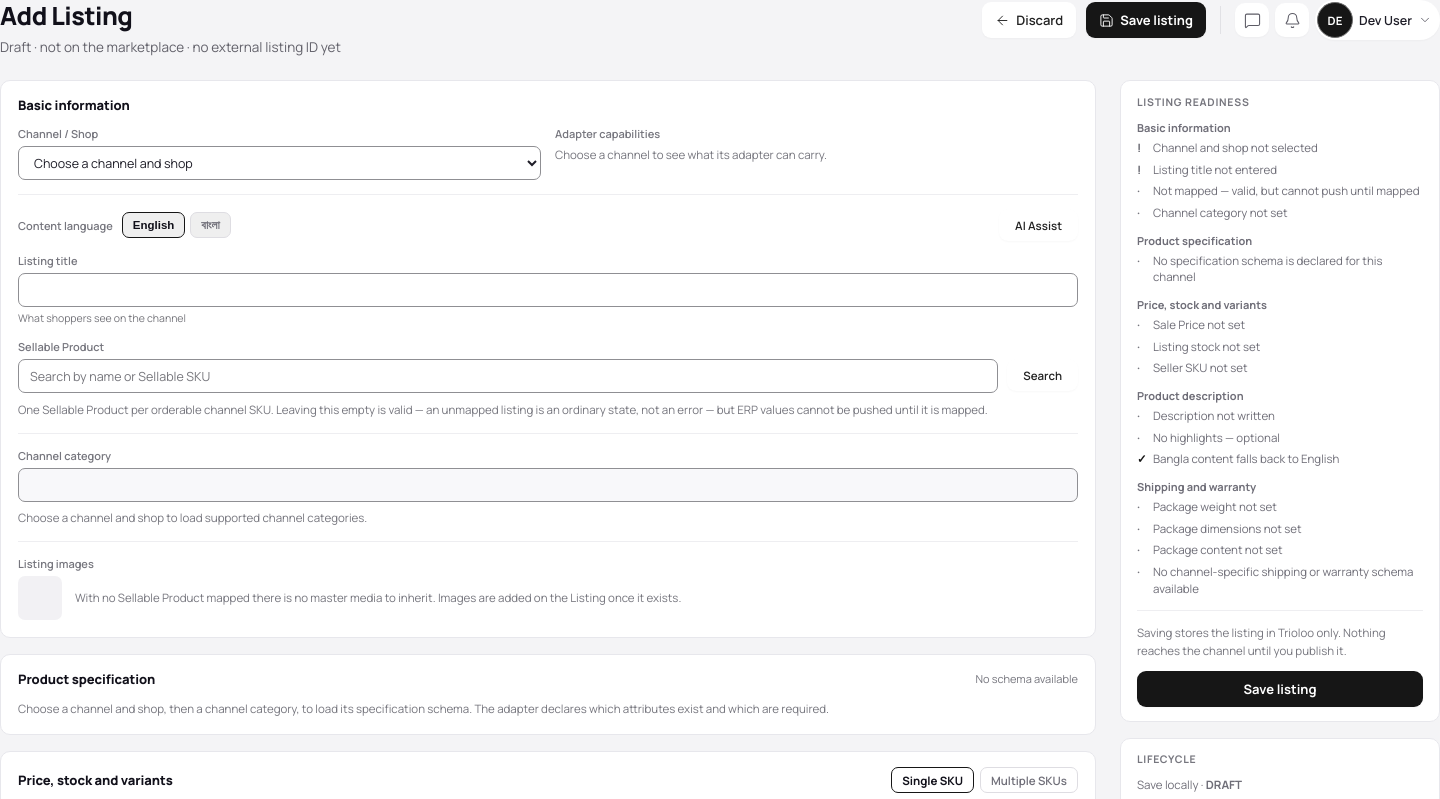
Scenario: AI Assist — availability › opens from the authoring header without being the page primary
Step 1. Click the button with test id "ai-assist-open" → (1039, 225), box [999, 209, 1078, 241]
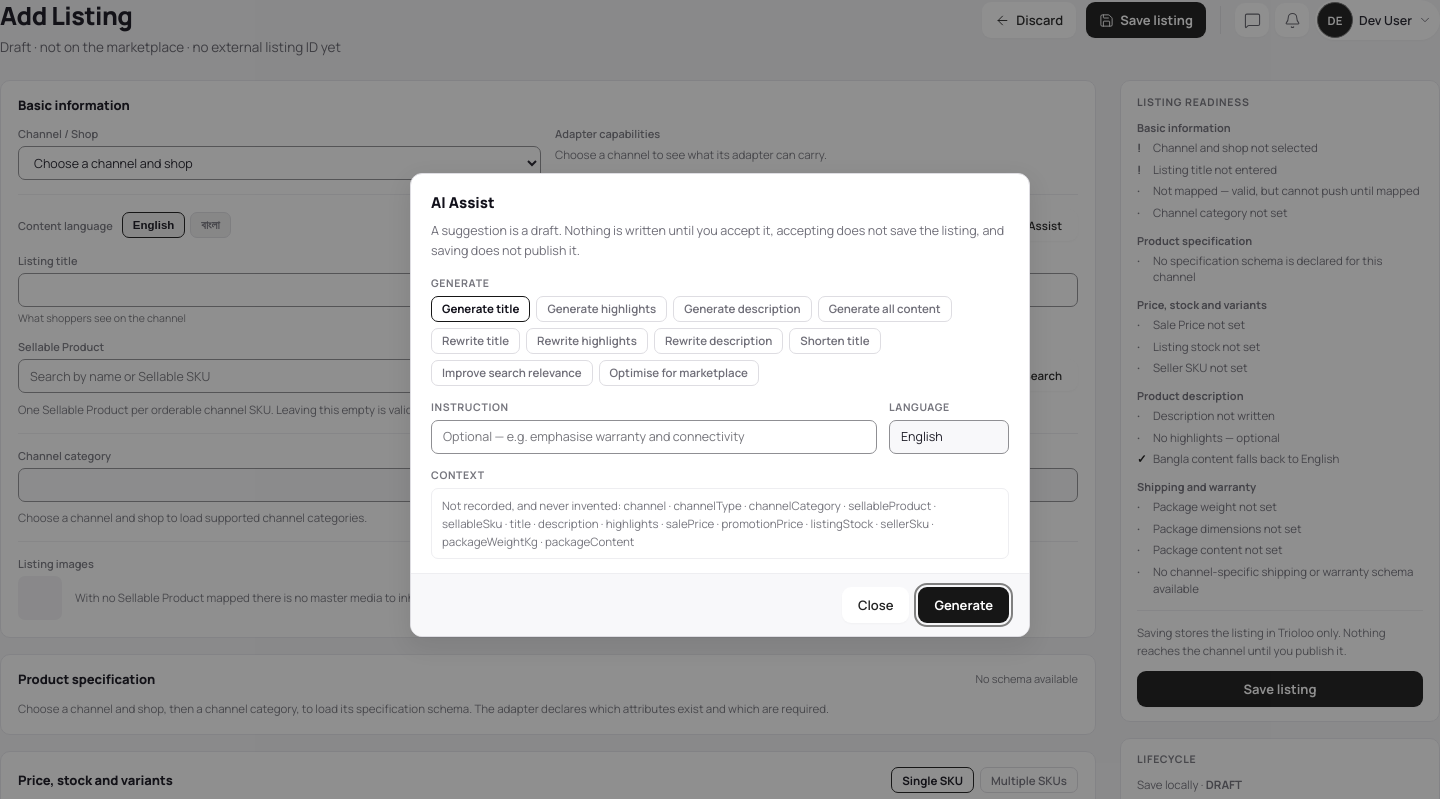
Expected: the element with test id "page-header-actions" shows "Save listing", [1086, 2, 1206, 38]
Result: the dialog with test id "ai-assist-dialog" is shown at [410, 173, 1030, 637]
